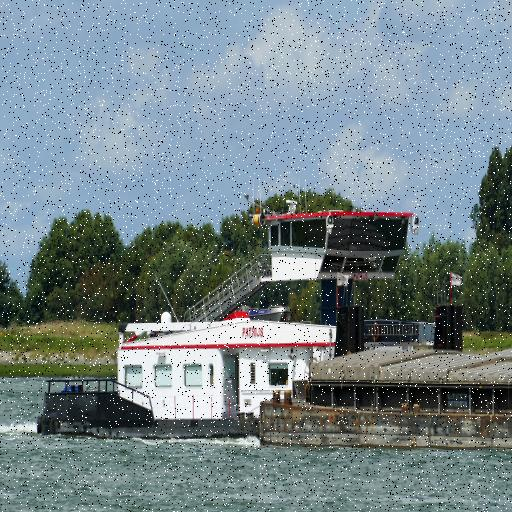tugboat: (33, 195, 470, 455)
